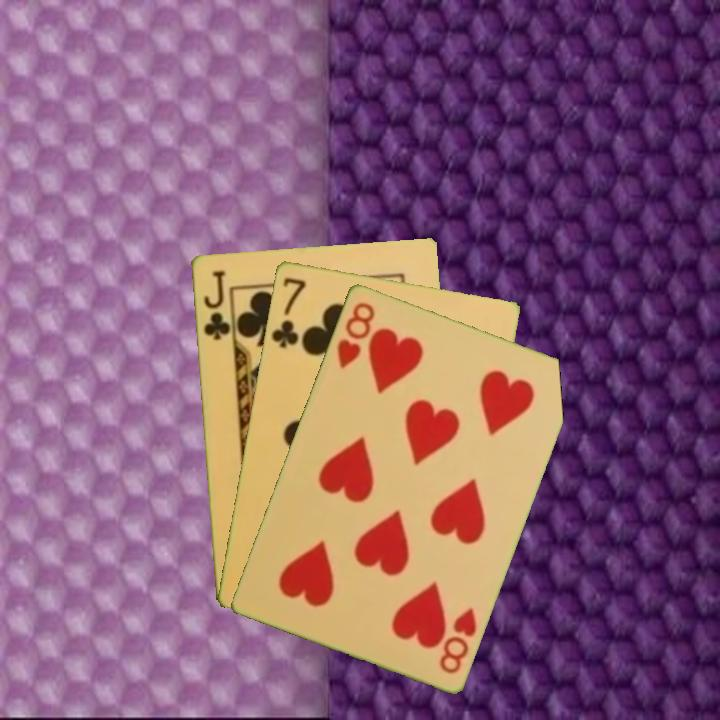7c: (267, 273, 309, 351)
8h: (333, 298, 378, 371), (435, 603, 480, 676)
Jc: (200, 266, 232, 343)
